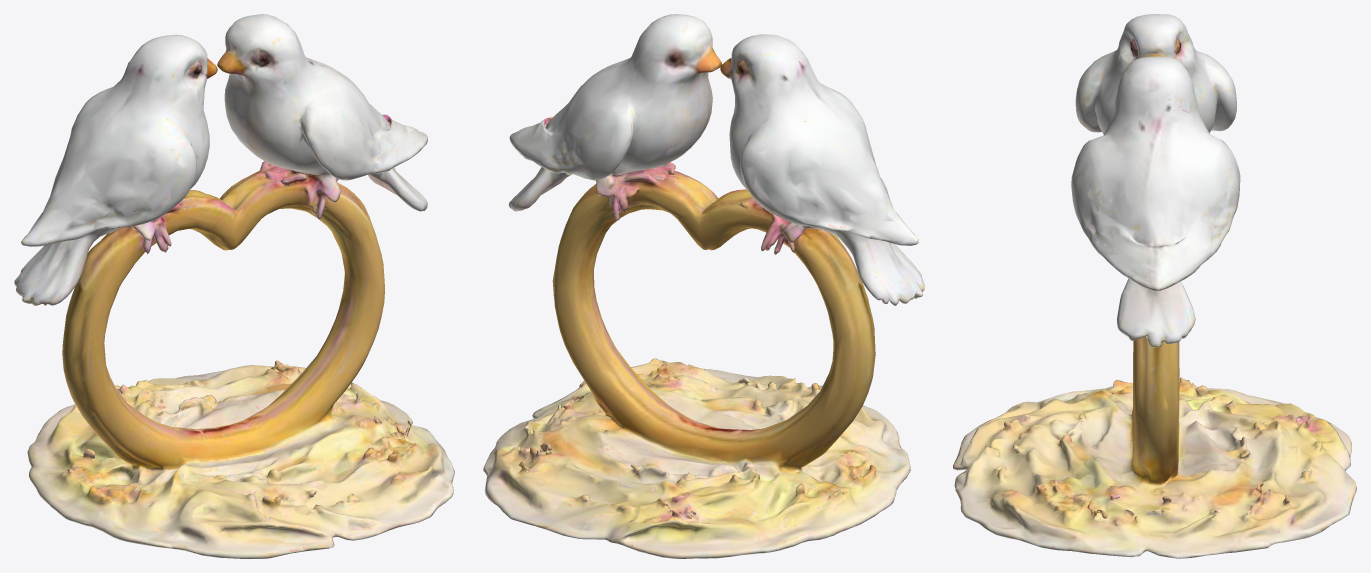
3 renders of one model, left to right at view 1: azimuth 30°, elevation 25°; view 2: azimuth 150°, elevation 25°; view 3: azimuth 270°, elevation 25°, orthographic. The views are drawn at different scales.
Bounding box in the file's own units: 1.92 × 2 × 1.71.
1 material, 1 textured.
